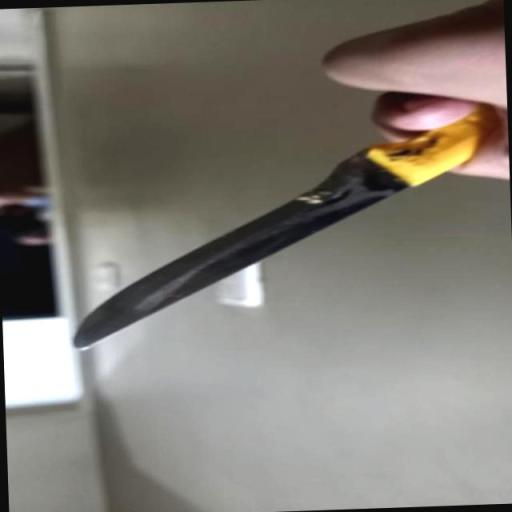knife: (60, 81, 512, 351)
